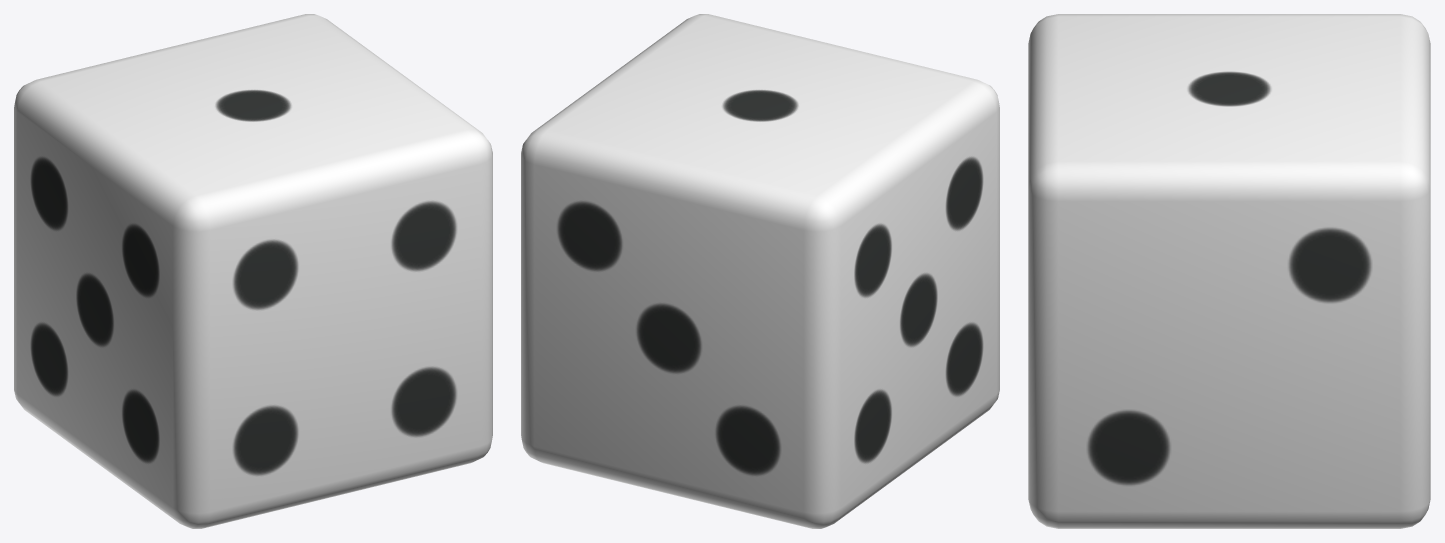
The model's file is 3D Dice Pack - D6.obj.
The picture shows the model from 3 angles, left to right: view 1: azimuth 30°, elevation 25°; view 2: azimuth 150°, elevation 25°; view 3: azimuth 270°, elevation 25°; orthographic projection. The views are drawn at different scales.
Parts seen in each view (by area): view 1: 3D_Dice_Pack_-_D6; view 2: 3D_Dice_Pack_-_D6; view 3: 3D_Dice_Pack_-_D6.
Part boxes in pixels (<box>): 3D_Dice_Pack_-_D6: <box>14,14,492,528</box>; 3D_Dice_Pack_-_D6: <box>521,14,999,528</box>; 3D_Dice_Pack_-_D6: <box>1028,14,1430,528</box>.
Size of the model in its own units: 2 by 2 by 2.
